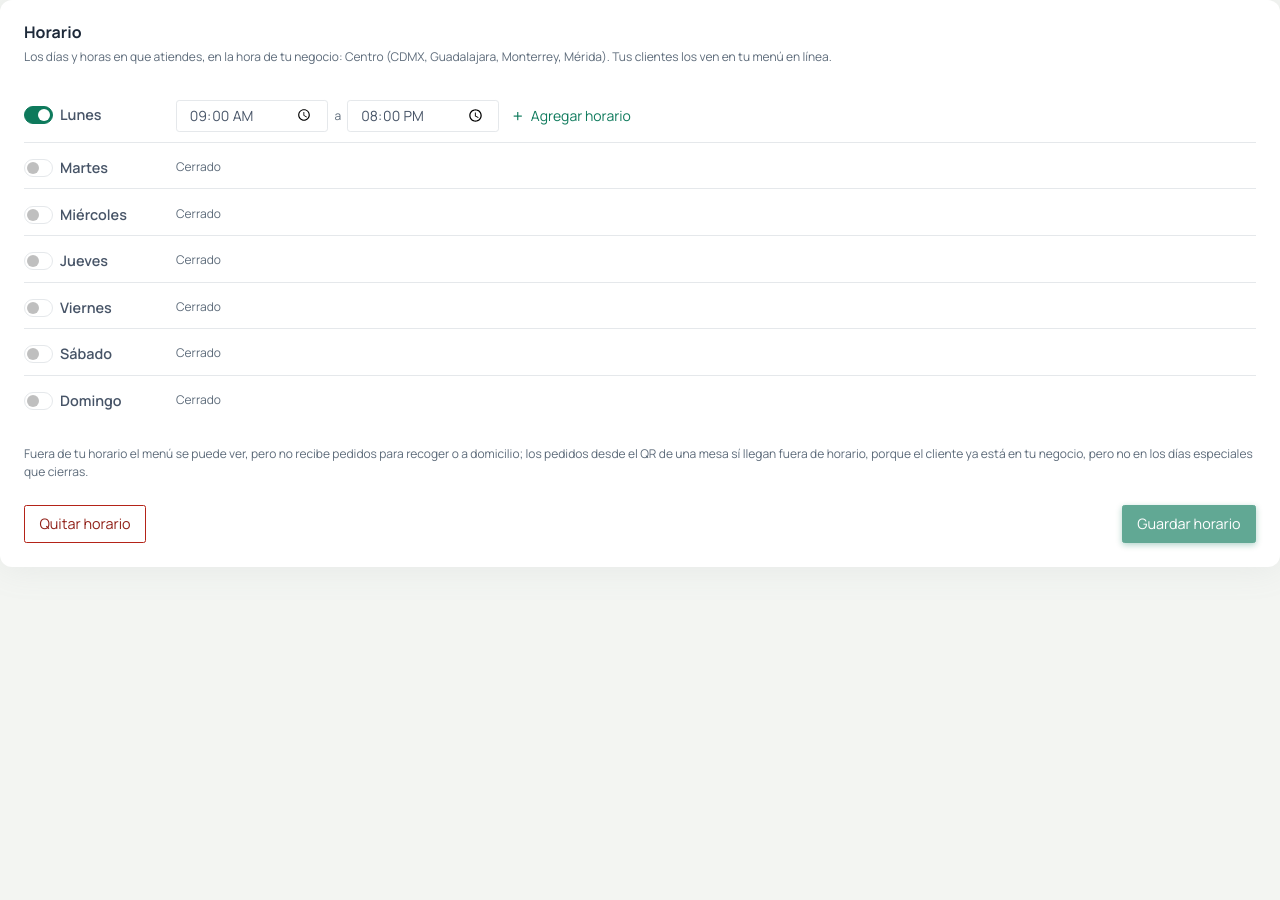
OpeningHoursCard › asks for the times left blank and shows why the API refuses the hours
Click the button with aria-label "Agregar horario al lunes".
click(571, 116)  # box 506,99 -> 636,132
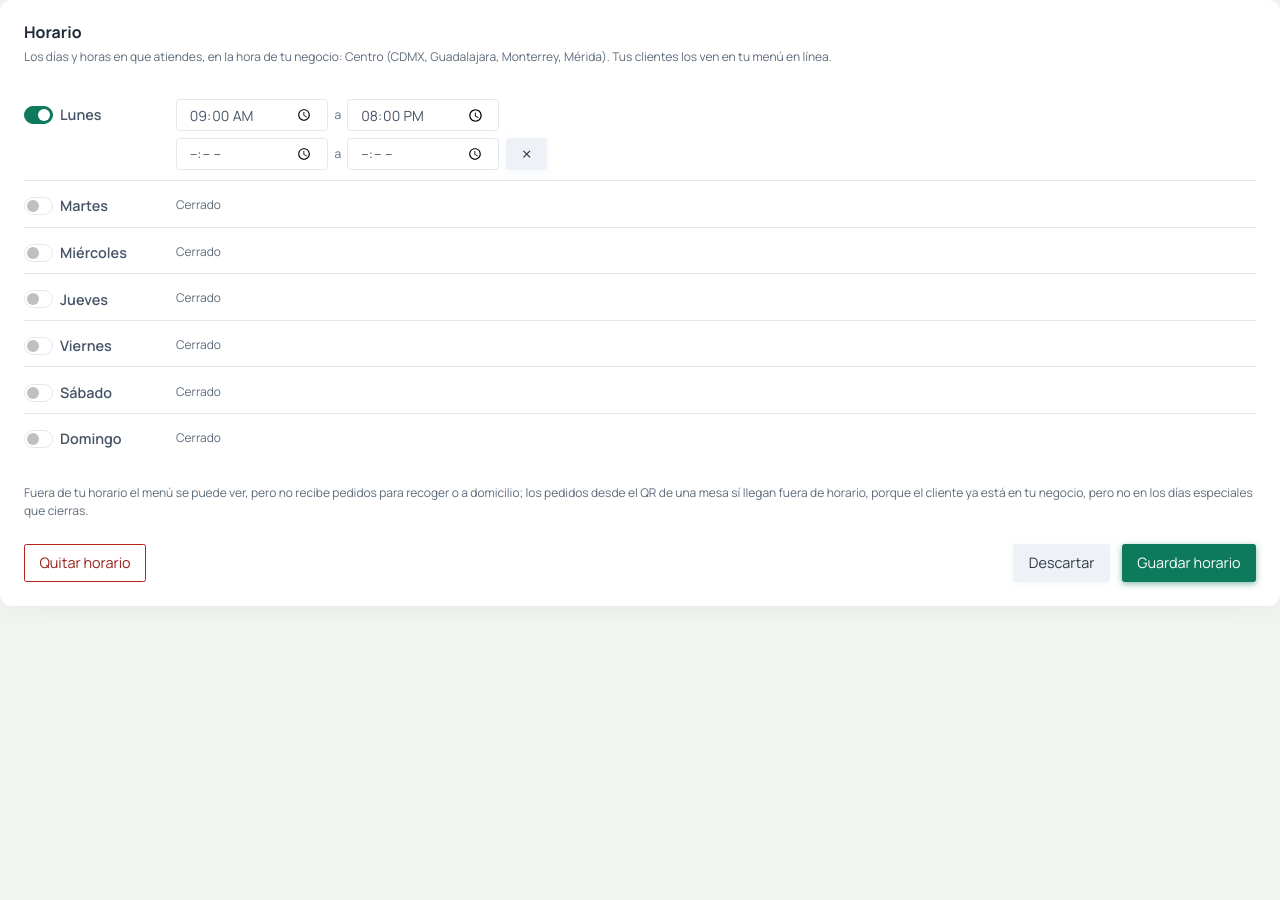
Click the button "Guardar horario".
click(1189, 563)  # box 1122,544 -> 1256,582
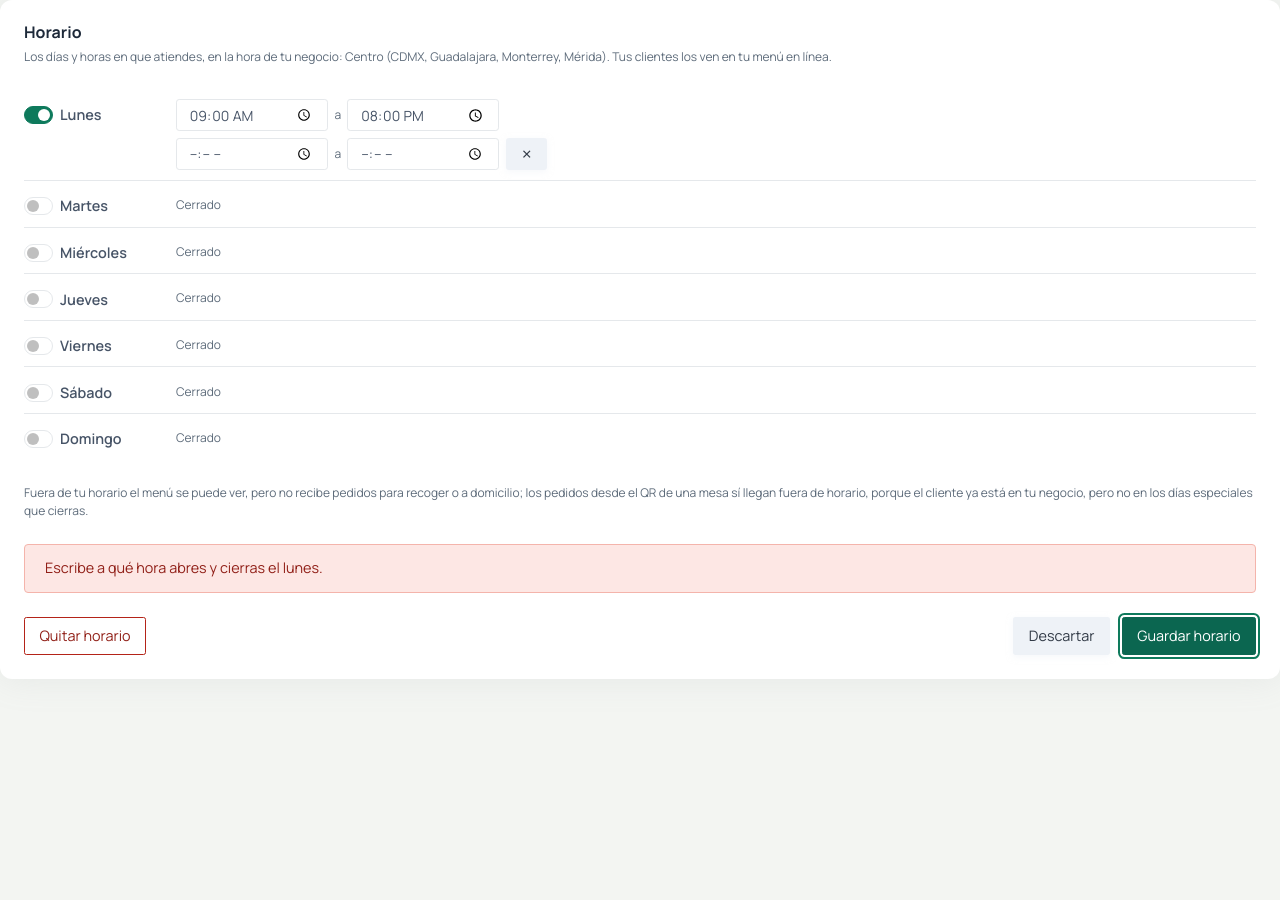
Now the message reads "Escribe a qué hora abres y cierras el lunes.", box 45,558 -> 323,577
Type "18:00" into the time field named "Abre el lunes, segundo horario".
click(252, 154); type("18:00")  # box 176,138 -> 328,170
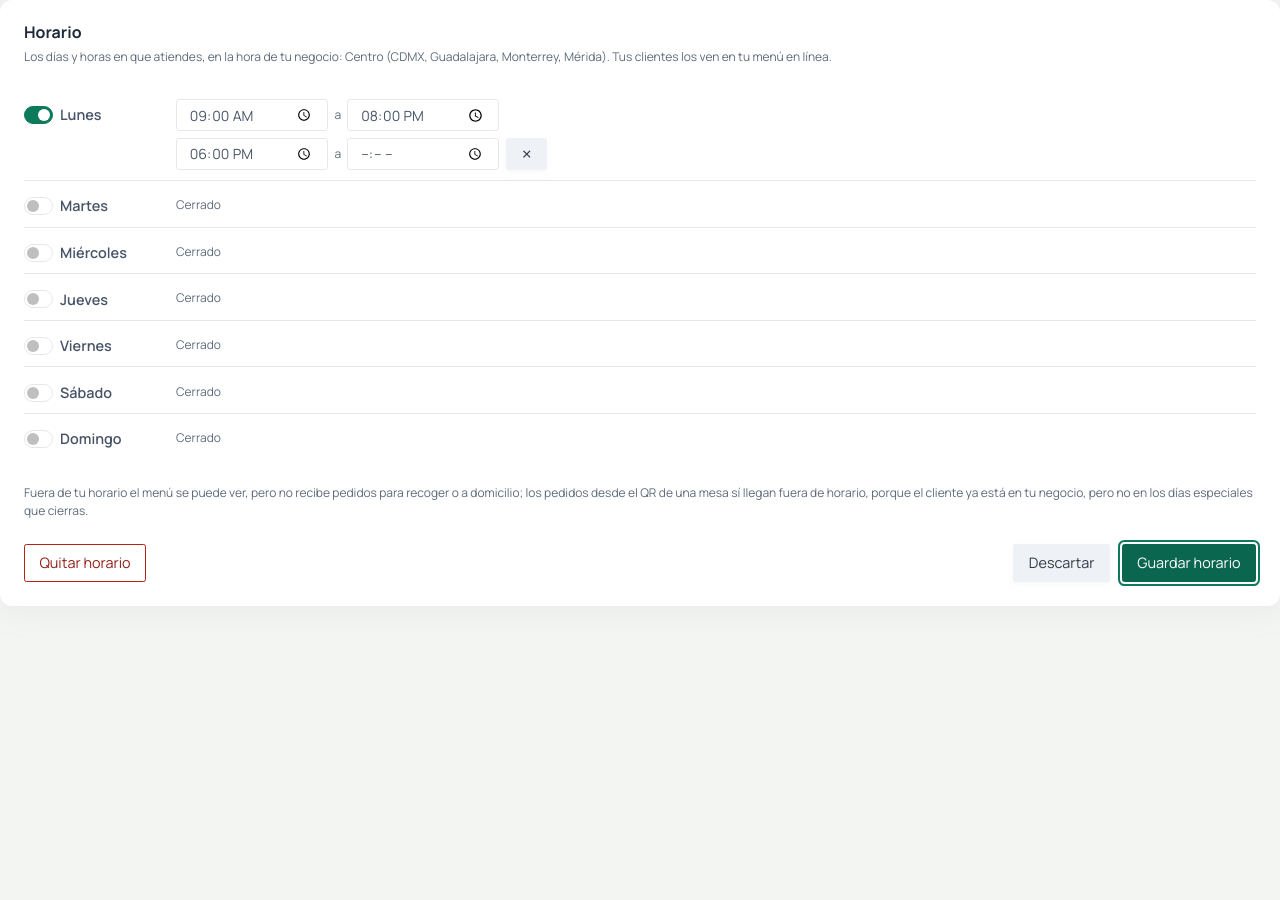
Type "22:00" into the time field named "Cierra el lunes, segundo horario".
click(424, 154); type("22:00")  # box 348,138 -> 500,170
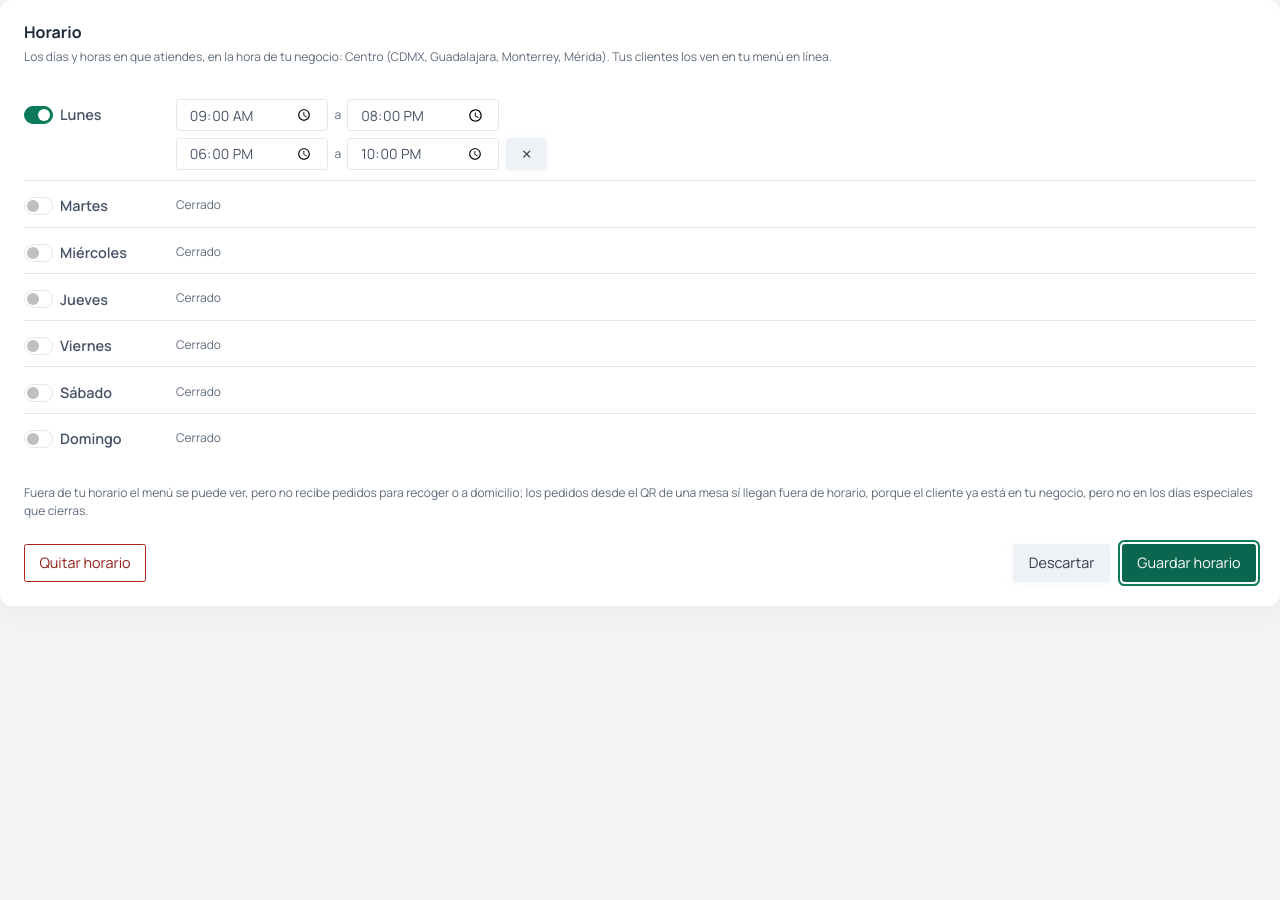
Click the button "Guardar horario".
click(1189, 563)  # box 1122,544 -> 1256,582
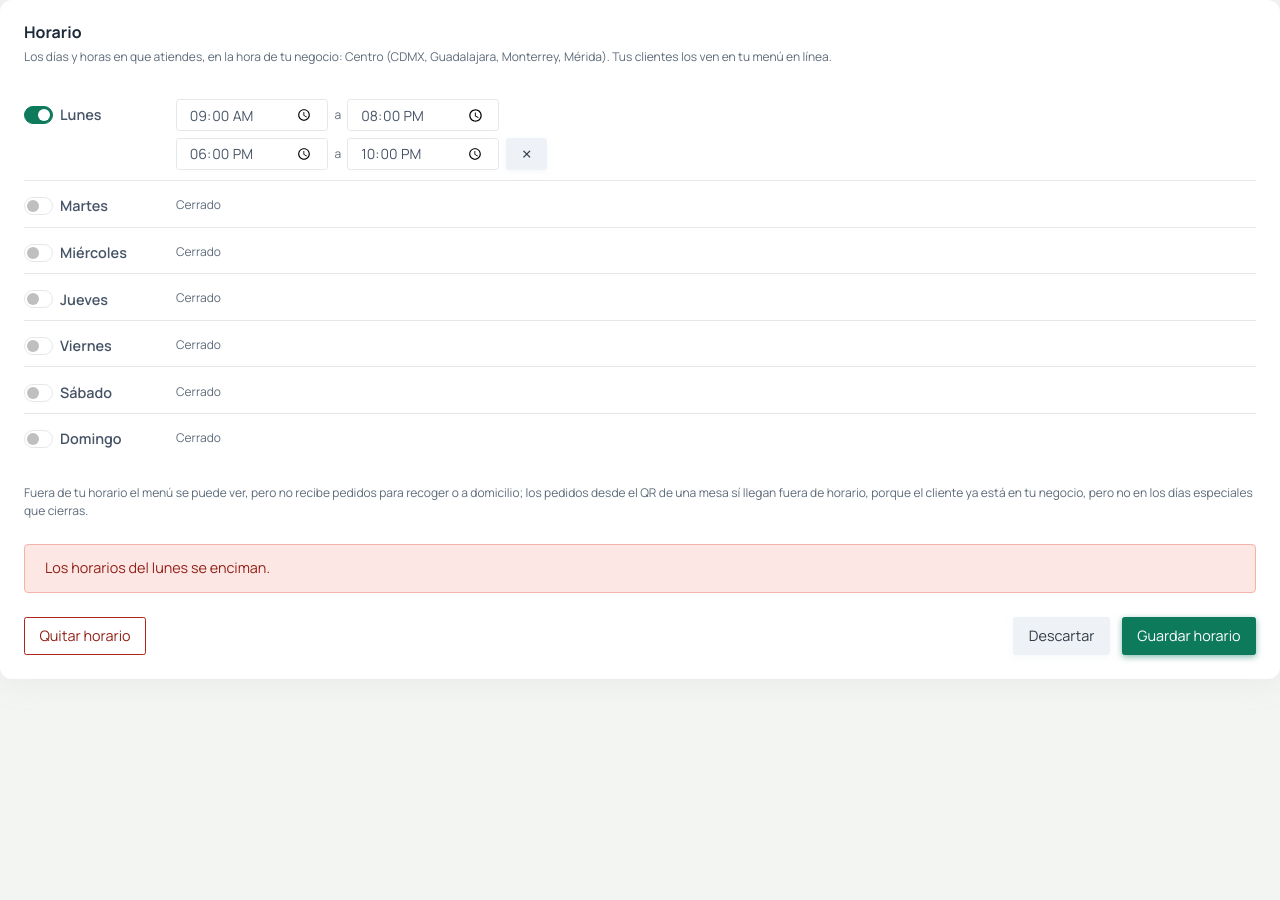
Now the button "Guardar horario" is enabled, box 1122,617 -> 1256,655
Now the message reads "Los horarios del lunes se enciman.", box 45,558 -> 270,577
